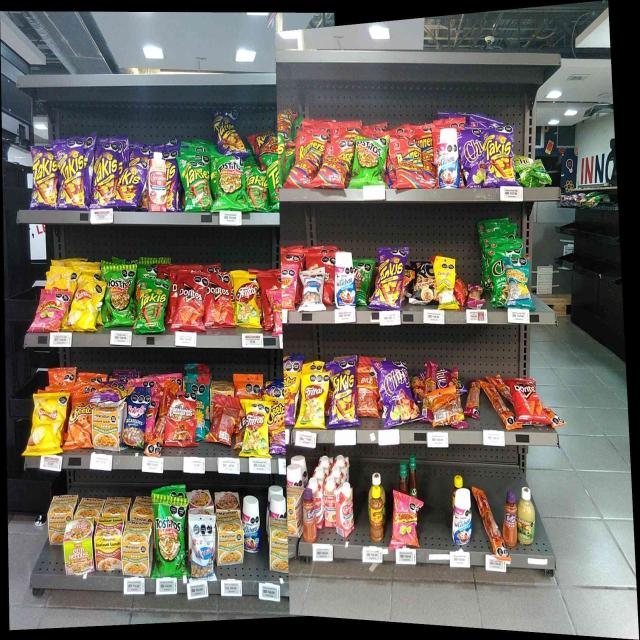bitzEnchilado90: (358, 369, 378, 418)
bitzEnchilado95: (476, 488, 500, 548), (487, 376, 509, 420), (152, 403, 166, 455)
bitzHabanero: (423, 362, 434, 422), (467, 380, 480, 416), (468, 284, 483, 310)
bokadosCacahuates: (126, 406, 145, 447)
botaneraChilito: (369, 486, 383, 540)
cheetosFlaminHot: (269, 388, 285, 454), (95, 382, 130, 404)
cheetosOriginal: (68, 398, 90, 449)
chipsFuego: (382, 361, 413, 424), (461, 130, 483, 185)
chipsJalapeno: (491, 247, 507, 307)
chipsPapatinas: (516, 156, 547, 186)
churrumais: (393, 494, 417, 546), (40, 290, 66, 330), (282, 264, 296, 308)
delPrimoSalsa: (518, 487, 535, 544)
doritosNacho: (176, 271, 202, 329), (206, 276, 231, 325), (514, 378, 540, 422)
fritosLimon: (245, 400, 268, 457), (234, 275, 258, 326), (301, 375, 324, 425)
leoCacahuates: (190, 515, 214, 580), (303, 271, 324, 309)
maruchanPollo: (124, 521, 153, 576), (216, 513, 243, 564), (93, 408, 121, 450), (270, 518, 288, 571)
maruchanRes: (95, 518, 122, 570)
nestleCarnation: (148, 156, 166, 210), (335, 486, 353, 534), (323, 476, 334, 527)
nestleLechera: (439, 129, 459, 186), (453, 488, 471, 543), (335, 252, 353, 306), (244, 498, 260, 550)
nissinCamaron: (65, 520, 93, 572)
popKarameladas: (414, 260, 436, 303)
productoAtras: (212, 401, 235, 444), (435, 390, 462, 424)
rancheritos: (168, 396, 195, 444)
rufflesQueso: (355, 260, 370, 305)
runners: (393, 137, 420, 185), (322, 138, 349, 184), (296, 130, 314, 187), (254, 132, 278, 155), (278, 109, 294, 133)
sabritasOriginal: (34, 393, 62, 451), (75, 278, 98, 328)
semillasCalabaza: (438, 257, 456, 308)
semillasGirasol: (509, 257, 528, 306)
tajinDulce: (303, 488, 316, 540), (504, 490, 517, 536)
takisFuego: (331, 362, 355, 427), (486, 128, 514, 183), (59, 145, 83, 207), (379, 246, 402, 308), (94, 142, 116, 205), (34, 147, 54, 208), (120, 162, 144, 207), (216, 110, 239, 152)
takisOriginal: (184, 156, 210, 211), (140, 279, 164, 330), (246, 165, 268, 209)
tostitos: (156, 496, 184, 576), (107, 266, 135, 325), (216, 157, 245, 209), (354, 137, 386, 184)
